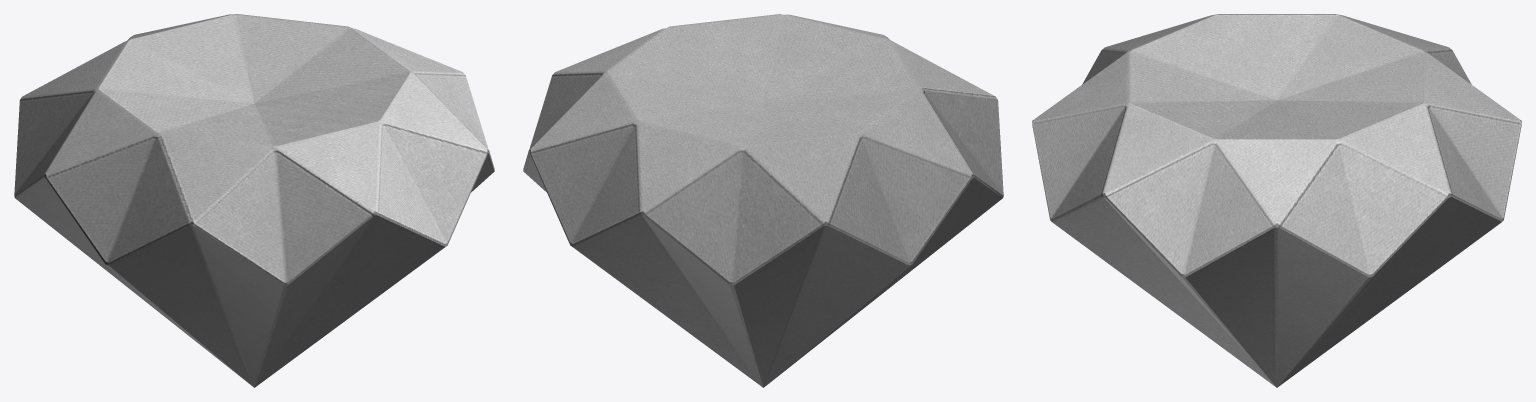
The model's file is origami_diamond.fbx.
3 renders of one model, left to right at view 1: azimuth 30°, elevation 25°; view 2: azimuth 150°, elevation 25°; view 3: azimuth 270°, elevation 25°, orthographic.
Visible parts, largest first — view 1: diamond; view 2: diamond; view 3: diamond.
Part boxes in pixels (bbox=[...]): diamond: bbox=[14, 14, 494, 387]; diamond: bbox=[523, 14, 1003, 387]; diamond: bbox=[1032, 14, 1521, 387].
Bounding box in the file's own units: 4.53 × 3.18 × 4.53.
1 material, 1 textured.
